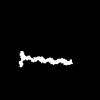half_double_crochet: (19, 51, 72, 66)
